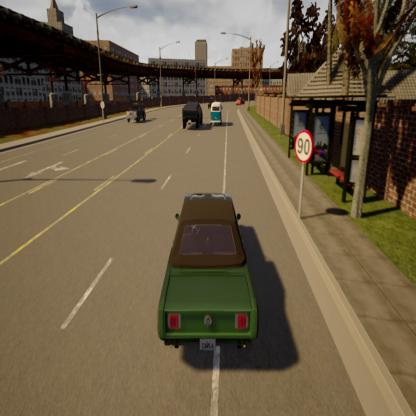Cars: (150, 185, 263, 363), (180, 98, 205, 132), (125, 99, 148, 125), (209, 99, 224, 127), (235, 96, 244, 108), (207, 95, 214, 110)
